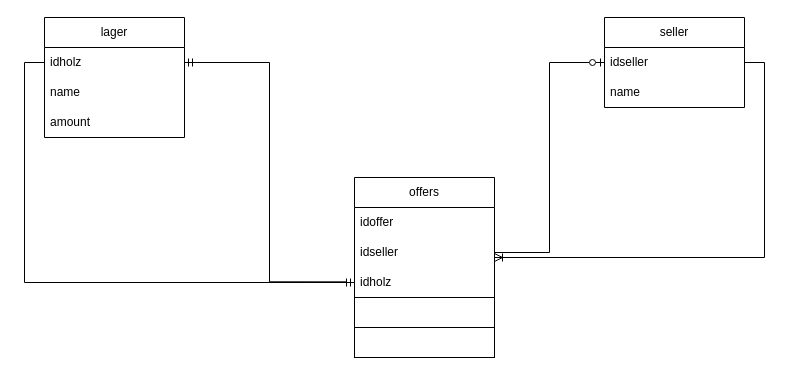
Some shapes in this 790 by 375 pixel diagram are drawn without their labels. Each missing label, with the centre of its shape:
price: point (424, 312)
status: point (424, 342)
